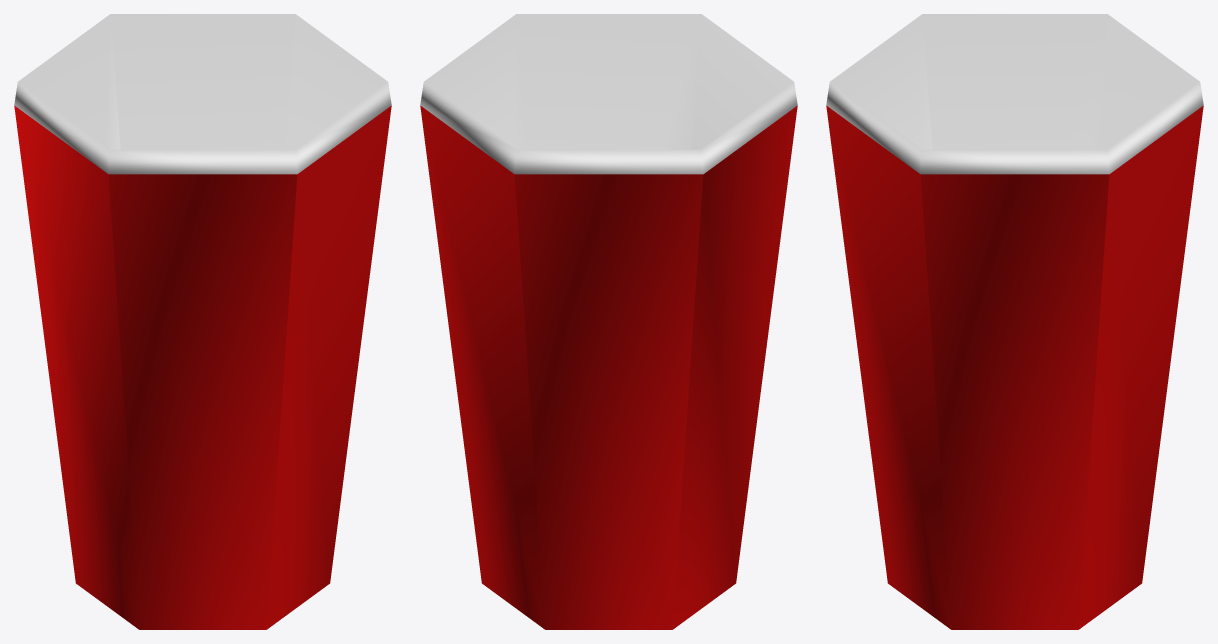
Rendered from low_poly_solo.fbx.
The picture shows the model from 3 angles, left to right: view 1: azimuth 30°, elevation 25°; view 2: azimuth 150°, elevation 25°; view 3: azimuth 270°, elevation 25°; orthographic projection.
Visible parts, largest first — view 1: pCylinder1; view 2: pCylinder1; view 3: pCylinder1.
Part boxes in pixels (x1=…): pCylinder1: x1=14, y1=14, x2=391, y2=629; pCylinder1: x1=420, y1=14, x2=797, y2=629; pCylinder1: x1=826, y1=14, x2=1203, y2=629.
Bounding box in the file's own units: 3.53 × 5.98 × 4.08.
